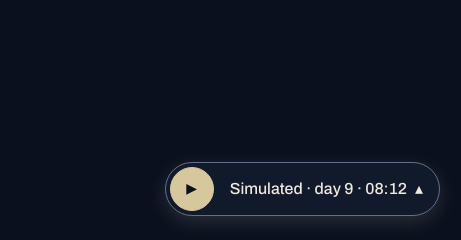
Scenario: opening it shows the speeds, jump to the end and the day slider, and it closes again
What coordinates should you click on to do the following:
click the button "Simulated · day 9 · 08:12 ▴"
I would click on:
 (326, 189)
Its box is [218, 167, 435, 211].
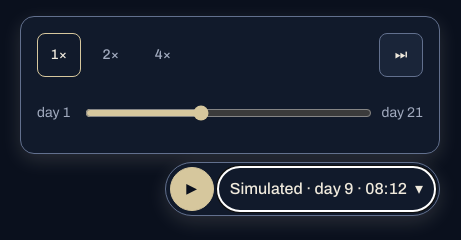
Now the button "Simulated · day 9 · 08:12 ▾" is expanded
Now the slider named "Simulated day" holds "9", box [84, 91, 372, 135]
Now the element named "Speed" is shown, box [37, 33, 185, 77]
What coordinates should you click on to do the following:
click the button "Simulated · day 9 · 08:12 ▾"
I would click on:
 (326, 189)
Its box is [218, 167, 435, 211].
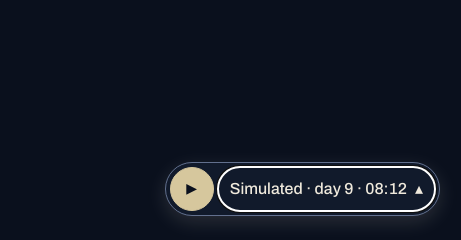
Now the slider is gone
